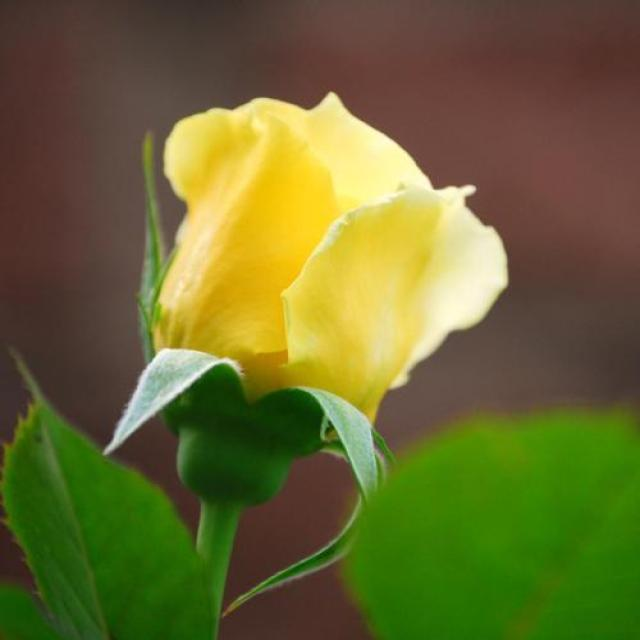rose: (101, 69, 539, 493)
